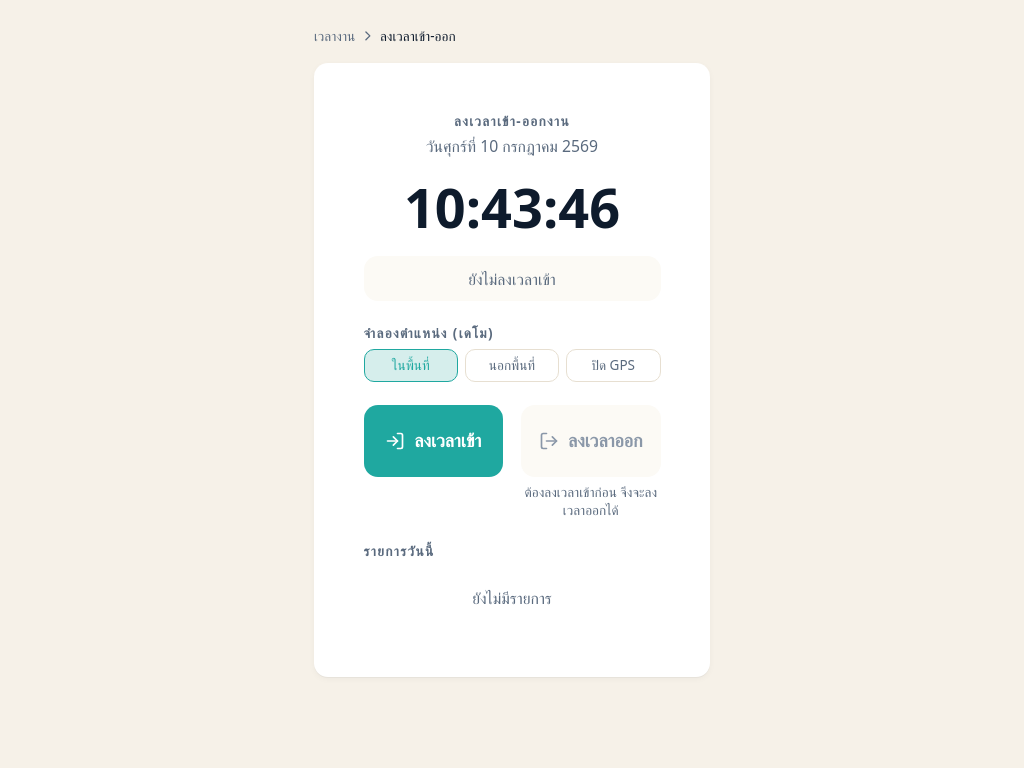
Test: punch handler — the 3 geofence cases drive the 3 popups › disabled → blocks the punch (no record) + error popup with Try Again
Click the button with test id "geo-sim-disabled" at (613, 365), box [566,349,660,382]
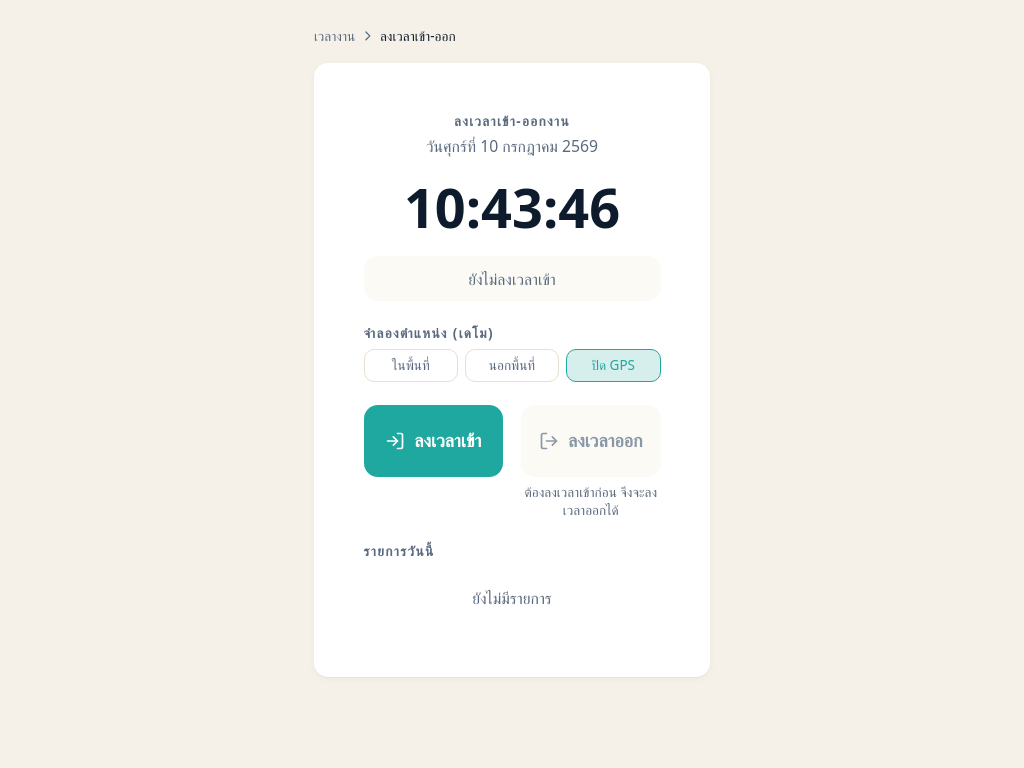
Click the button with test id "clock-in-button" at (433, 441), box [364,405,503,477]
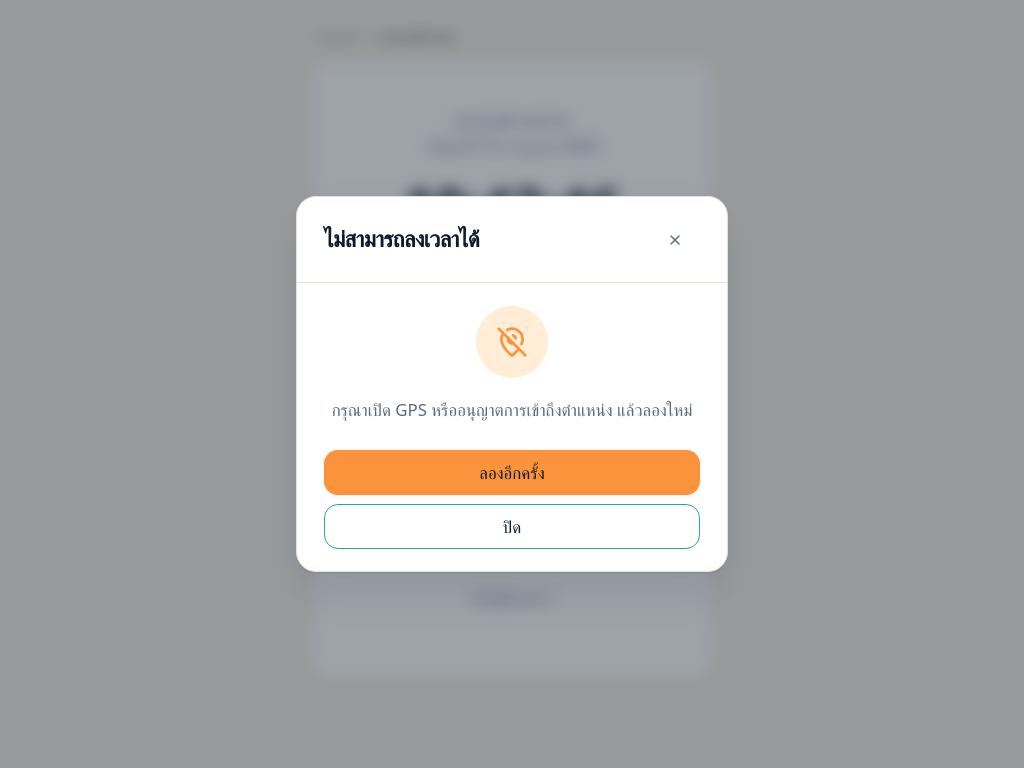
Expected: the heading "ไม่สามารถลงเวลาได้" is shown, [324,224,479,255]
Expected: the button with test id "clock-retry" is shown, [324,450,700,495]
